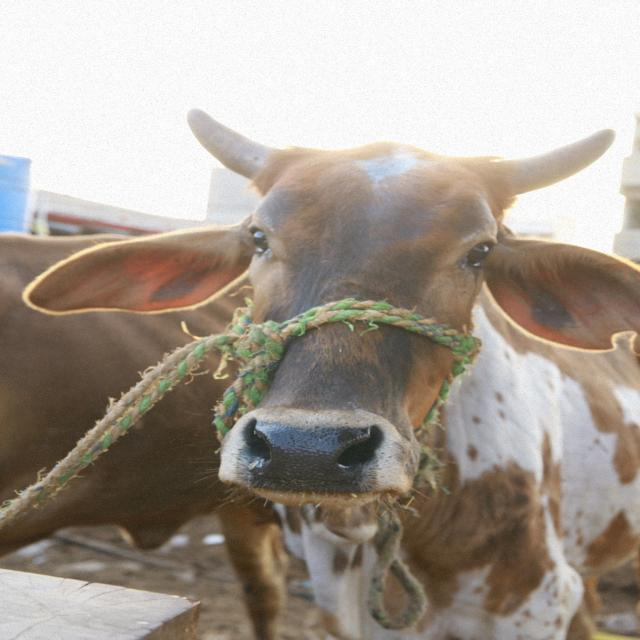muzzles: (229, 411, 385, 501)
